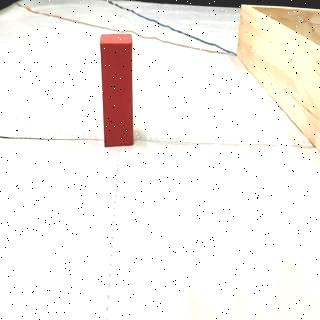redbox: (100, 32, 136, 146)
